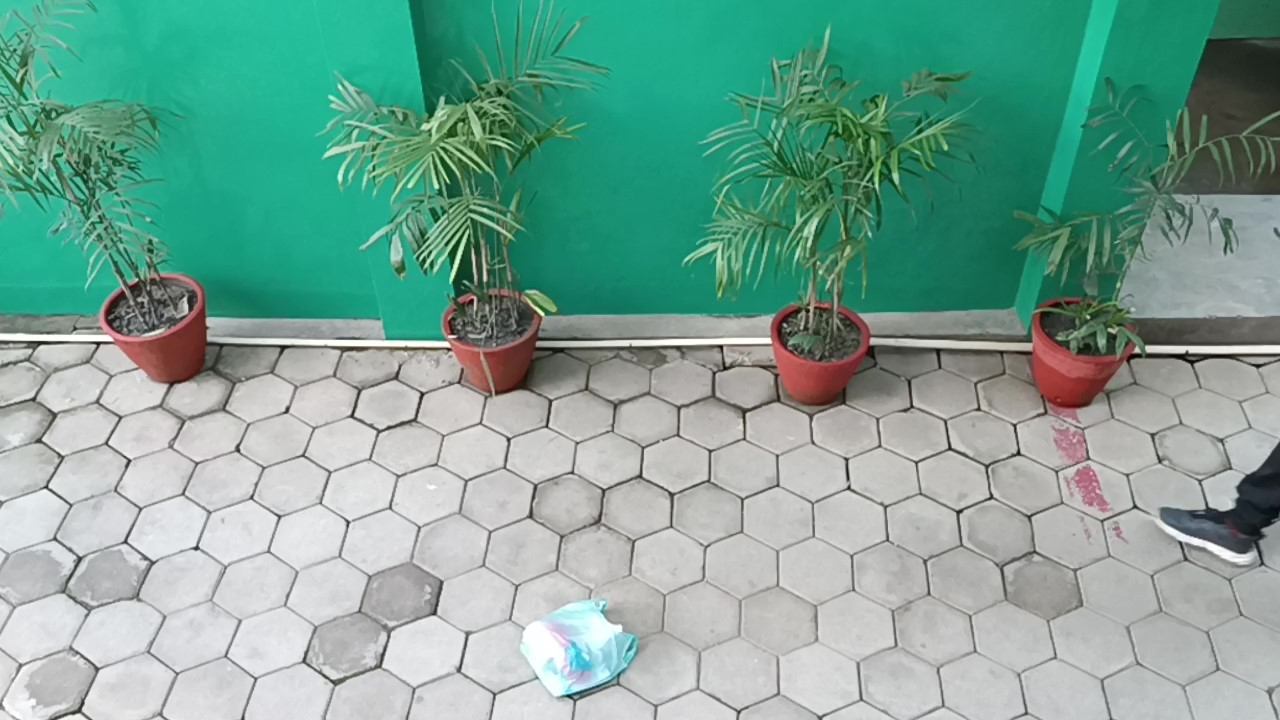thrownwaste: (502, 597, 663, 700)
